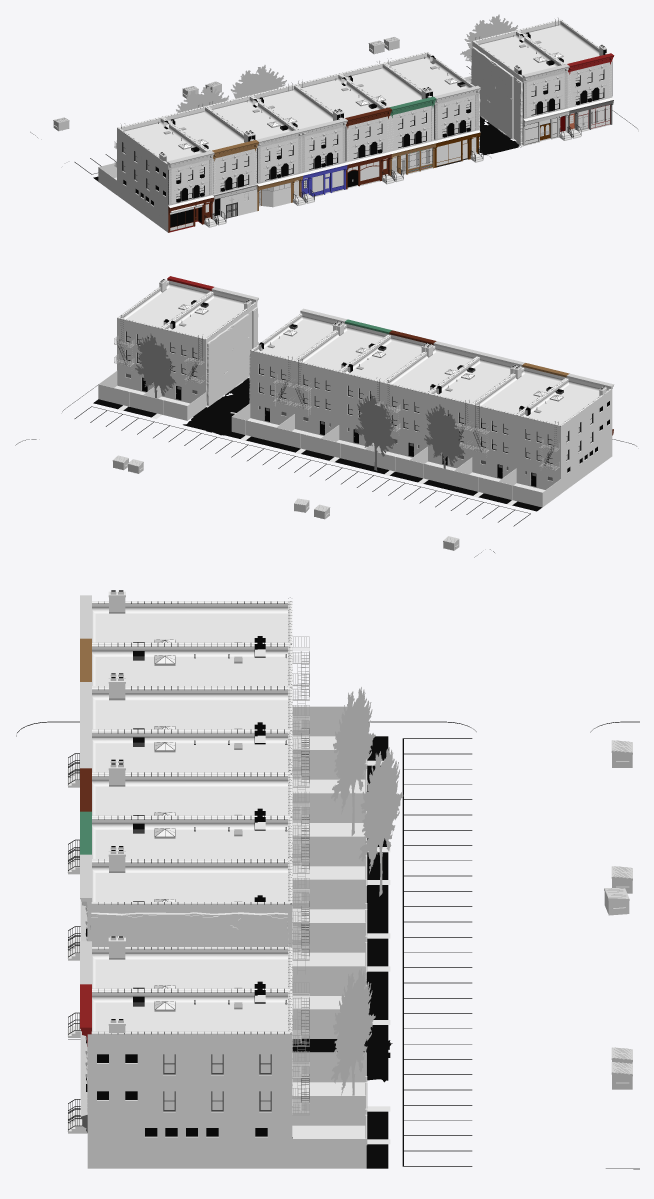
3 renders of one model, top to bottom at view 1: azimuth 30°, elevation 25°; view 2: azimuth 150°, elevation 25°; view 3: azimuth 270°, elevation 25°, orthographic. The views are drawn at different scales.
Parts seen in each view (by area): view 1: Layer0_001, Stair/roof_002, Stair/roof_009, Stair/roof_005, Stair/roof_006, Stair/roof_008, Stair/roof_007, Stair/roof_001, Stair/roof_003, Stair/roof_004, Third Floor_001, Section_008 (+21 smaller); view 2: Layer0_001, Stair/roof_005, Stair/roof_008, Stair/roof_009, Stair/roof_004, Stair/roof_002, Stair/roof_007, Stair/roof_006, Stair/roof_003, Stair/roof_001, Third Floor_001, 2D Tree Deciduous 2_003 (+12 smaller); view 3: Layer0_001, Third Floor_001, Stair/roof_003, Stair/roof_007, Stair/roof_001, Stair/roof_006, Stair/roof_004, Stair/roof_008, Stair/roof_005, Stair/roof_002, Stair/roof_009, Roof_001 (+14 smaller).
Boxes of the visible parts, <box> form: Layer0_001: <box>30,20,637,232</box>; Stair/roof_002: <box>250,82,341,130</box>; Stair/roof_009: <box>162,104,252,151</box>; Stair/roof_005: <box>339,61,430,108</box>; Stair/roof_006: <box>517,18,607,65</box>; Stair/roof_008: <box>114,117,208,179</box>; Stair/roof_007: <box>472,30,563,77</box>; Stair/roof_001: <box>206,95,296,140</box>; Stair/roof_003: <box>295,73,385,118</box>; Stair/roof_004: <box>384,52,474,96</box>; Third Floor_001: <box>117,51,523,191</box>; Section_008: <box>99,159,216,227</box>; Layer0_001: <box>15,330,636,557</box>; Stair/roof_005: <box>292,322,389,453</box>; Stair/roof_008: <box>506,377,611,505</box>; Stair/roof_009: <box>469,365,566,497</box>; Stair/roof_004: <box>240,313,344,440</box>; Stair/roof_002: <box>381,344,477,475</box>; Stair/roof_007: <box>151,291,255,418</box>; Stair/roof_006: <box>114,279,211,410</box>; Stair/roof_003: <box>329,334,433,462</box>; Stair/roof_001: <box>418,356,522,483</box>; Third Floor_001: <box>206,311,612,452</box>; 2D Tree Deciduous 2_003: <box>355,394,396,470</box>; Layer0_001: <box>16,721,639,1169</box>; Third Floor_001: <box>87,920,292,1086</box>; Stair/roof_003: <box>92,763,390,938</box>; Stair/roof_007: <box>92,936,390,1111</box>; Stair/roof_001: <box>92,676,390,852</box>; Stair/roof_006: <box>91,987,390,1144</box>; Stair/roof_004: <box>91,849,390,1024</box>; Stair/roof_008: <box>92,590,383,765</box>; Stair/roof_005: <box>92,814,390,971</box>; Stair/roof_002: <box>92,728,390,884</box>; Stair/roof_009: <box>92,642,365,792</box>; Roof_001: <box>80,898,292,1049</box>.
Bounding box in the file's own units: 3216 × 482 × 1836.
